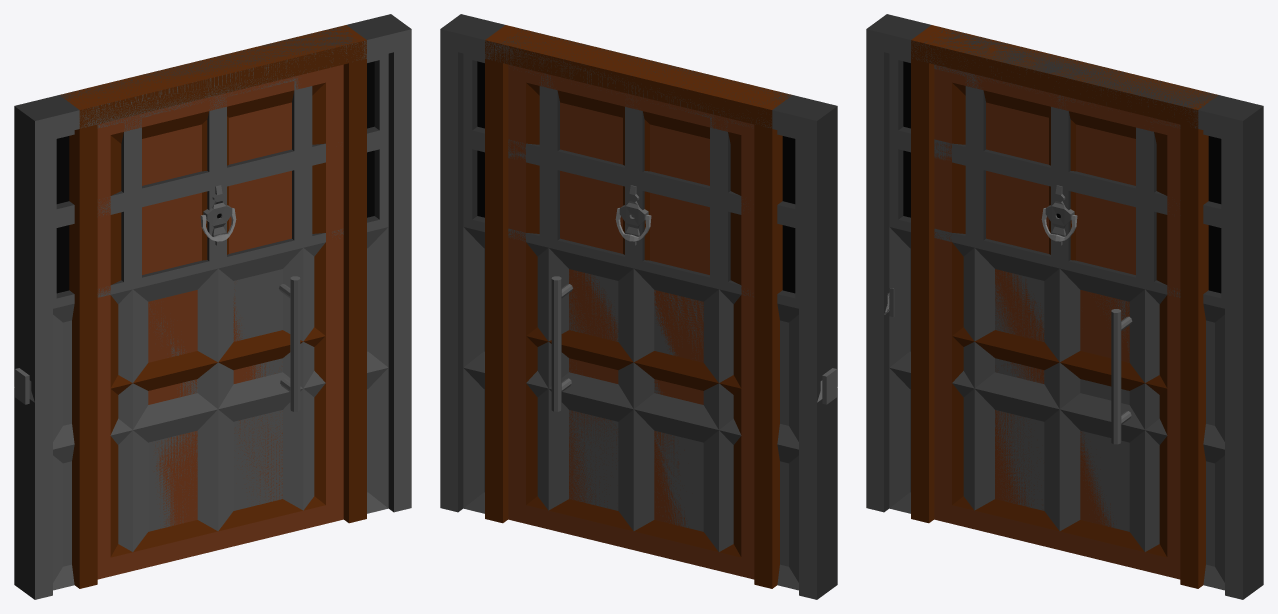
The model's file is doors.fbx.
The picture shows the model from 3 angles, left to right: view 1: azimuth 30°, elevation 25°; view 2: azimuth 150°, elevation 25°; view 3: azimuth 330°, elevation 25°; orthographic projection.
Visible parts, largest first — view 1: Cube.002, Cube.001, dubleDoor, Cube, door, zil; view 2: Cube.002, Cube, Cube.001, door, dubleDoor, zil; view 3: Cube.002, Cube, dubleDoor, Cube.001, door.
Boxes of the visible parts, left/top/right/bottom form: Cube.002: left=97, top=64, right=343, bottom=579; Cube.001: left=218, top=53, right=388, bottom=530; dubleDoor: left=14, top=14, right=411, bottom=599; Cube: left=53, top=96, right=218, bottom=590; door: left=60, top=25, right=366, bottom=588; zil: left=14, top=368, right=34, bottom=404; Cube.002: left=508, top=65, right=754, bottom=579; Cube: left=633, top=98, right=798, bottom=590; Cube.001: left=463, top=53, right=633, bottom=530; door: left=485, top=25, right=791, bottom=588; dubleDoor: left=440, top=14, right=837, bottom=599; zil: left=817, top=368, right=837, bottom=404; Cube.002: left=934, top=65, right=1180, bottom=579; Cube: left=889, top=53, right=1059, bottom=530; dubleDoor: left=866, top=14, right=1263, bottom=599; Cube.001: left=1059, top=95, right=1224, bottom=590; door: left=911, top=25, right=1217, bottom=588.
Size of the model in its own units: 425 by 510 by 70.
